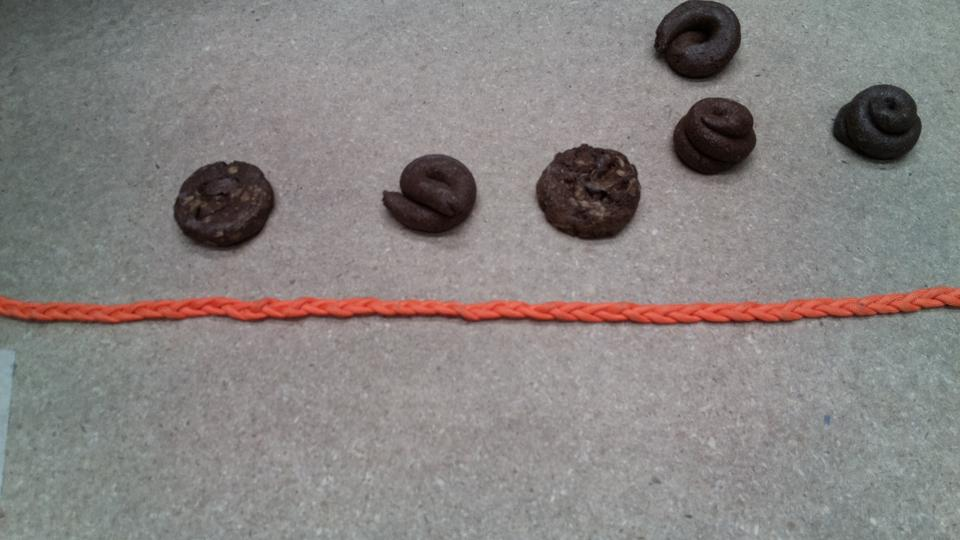poop: (536, 139, 642, 241), (171, 157, 281, 250), (379, 153, 487, 240), (641, 1, 751, 85), (826, 83, 930, 168), (667, 99, 764, 179)
rope: (3, 283, 960, 343)
